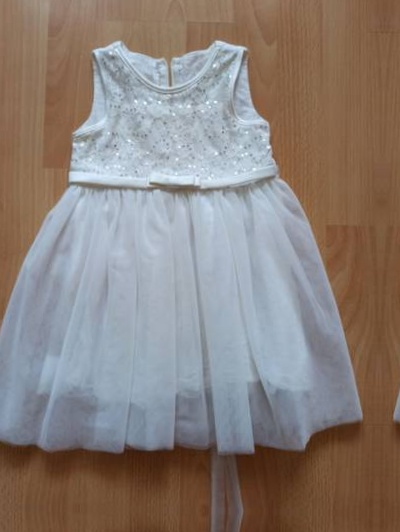Dress: (0, 0, 367, 468), (397, 2, 400, 475)
